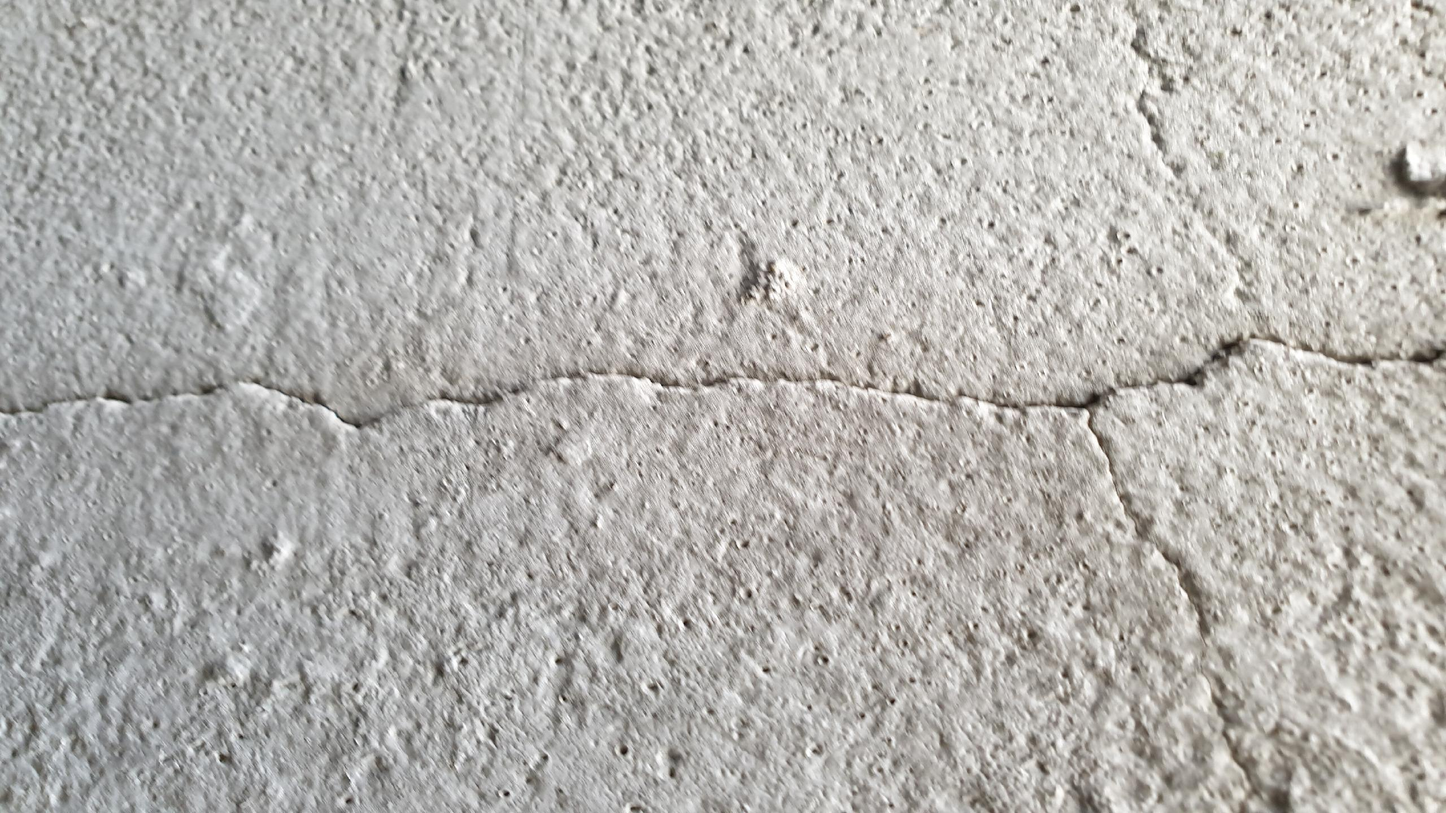crack: (0, 329, 1445, 802)
